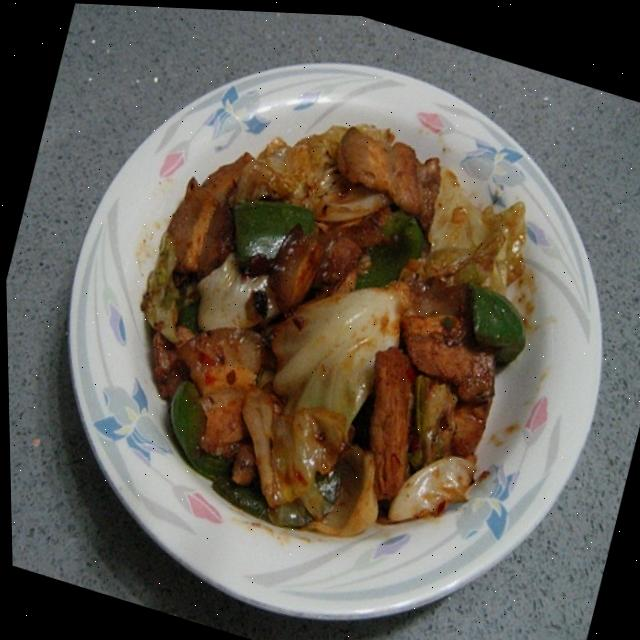猪肉菜式: (83, 70, 574, 584)
